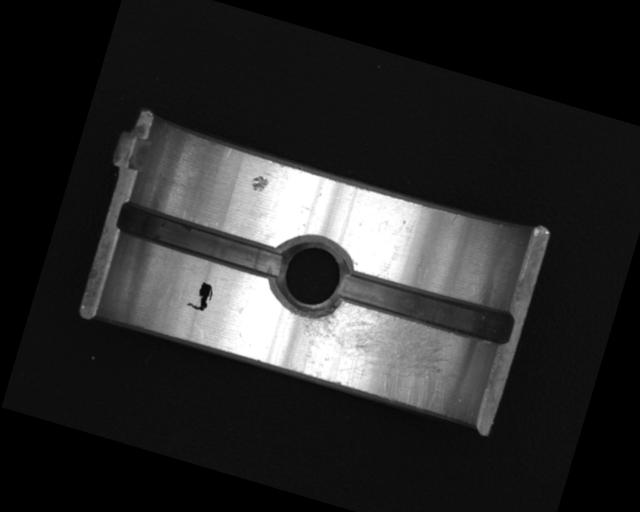blot: (184, 278, 217, 314)
bruise: (249, 173, 271, 194)
gap: (335, 262, 517, 350), (115, 201, 288, 281)
hole: (264, 228, 357, 325)
scratch: (288, 291, 478, 420)
